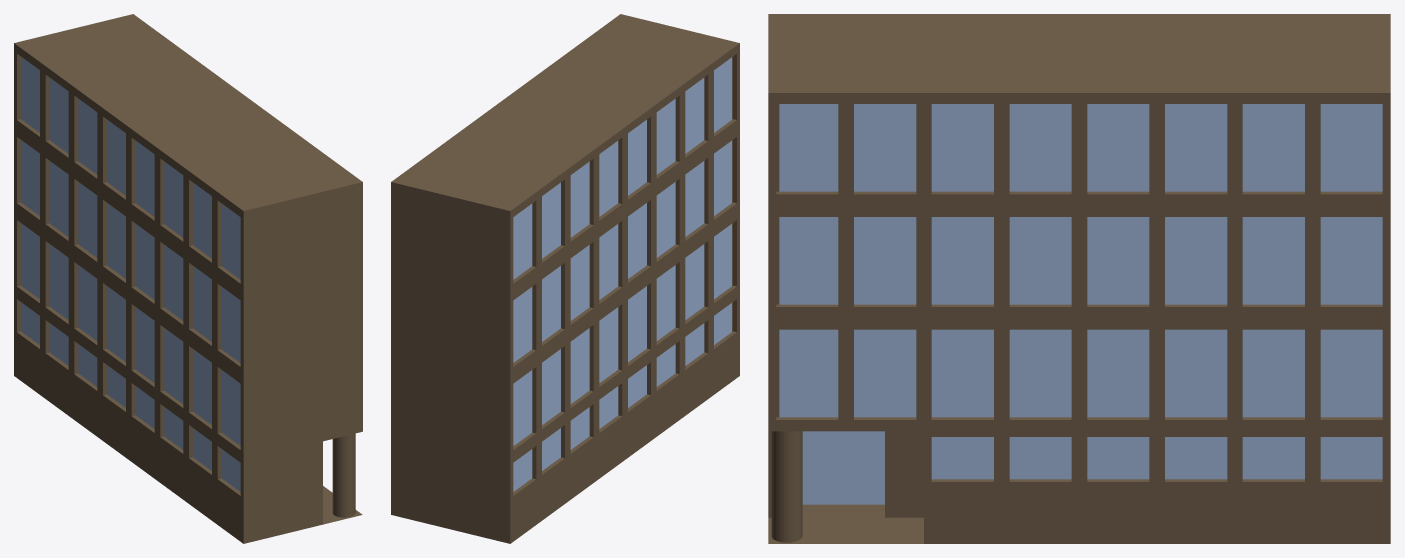
File: SaengMainTexture.fbx
The picture shows the model from 3 angles, left to right: view 1: azimuth 30°, elevation 25°; view 2: azimuth 150°, elevation 25°; view 3: azimuth 270°, elevation 25°; orthographic projection. The views are drawn at different scales.
Parts seen in each view (by area): view 1: Cube, Cylinder; view 2: Cube; view 3: Cube, Cylinder.
Boxes of the visible parts, left/top/right/bottom form: Cube: left=14, top=14, right=362, bottom=543; Cylinder: left=332, top=433, right=355, bottom=517; Cube: left=391, top=14, right=739, bottom=543; Cube: left=768, top=14, right=1390, bottom=543; Cylinder: left=771, top=431, right=802, bottom=542.
Bounding box in the file's own units: 6000 × 16000 × 20000.
